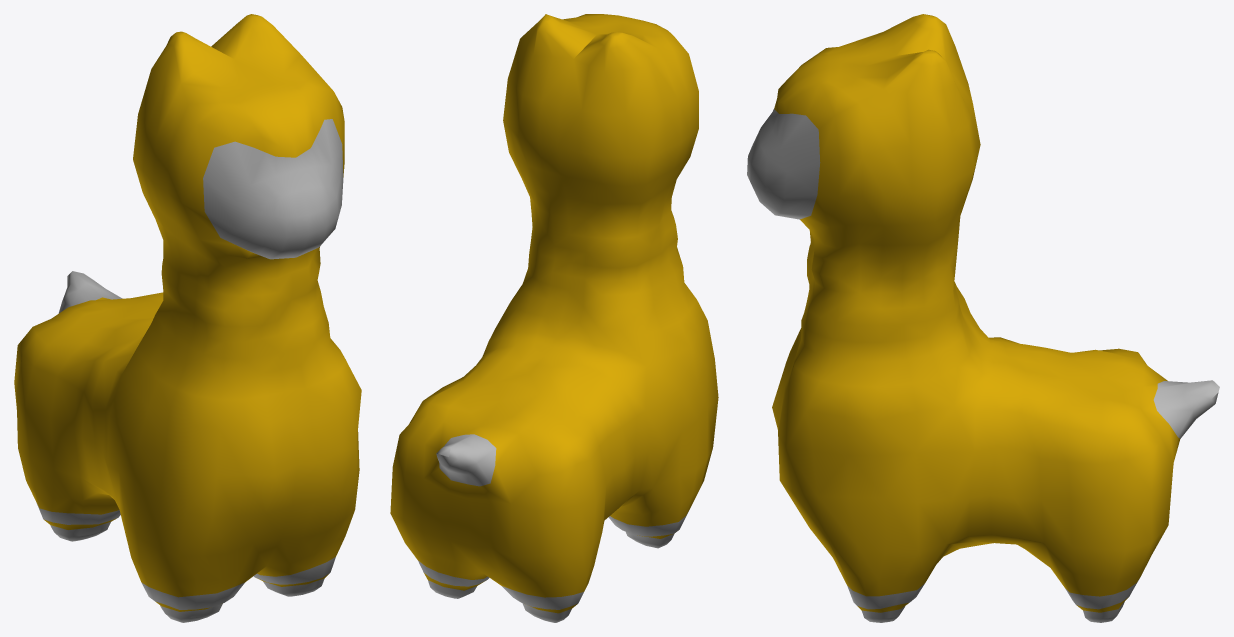
The model's file is Llam_Model_V3.fbx.
The picture shows the model from 3 angles, left to right: view 1: azimuth 30°, elevation 25°; view 2: azimuth 150°, elevation 25°; view 3: azimuth 270°, elevation 25°; orthographic projection. The views are drawn at different scales.
Parts seen in each view (by area): view 1: Llama_Model; view 2: Llama_Model; view 3: Llama_Model.
Part boxes in pixels (<box>): Llama_Model: <box>14,14,361,622</box>; Llama_Model: <box>390,14,718,622</box>; Llama_Model: <box>747,14,1219,622</box>.
Size of the model in its own units: 14.97 by 38.54 by 29.5.
